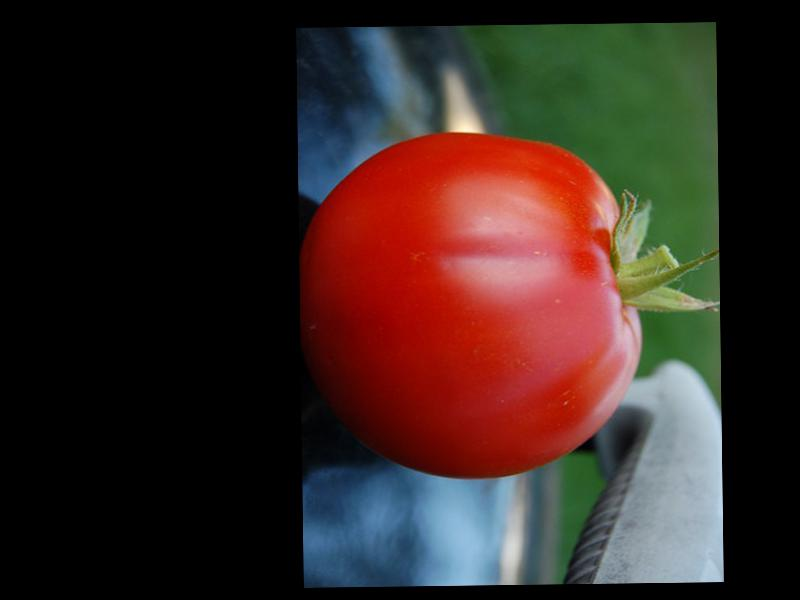Tomato: (297, 129, 643, 482)
